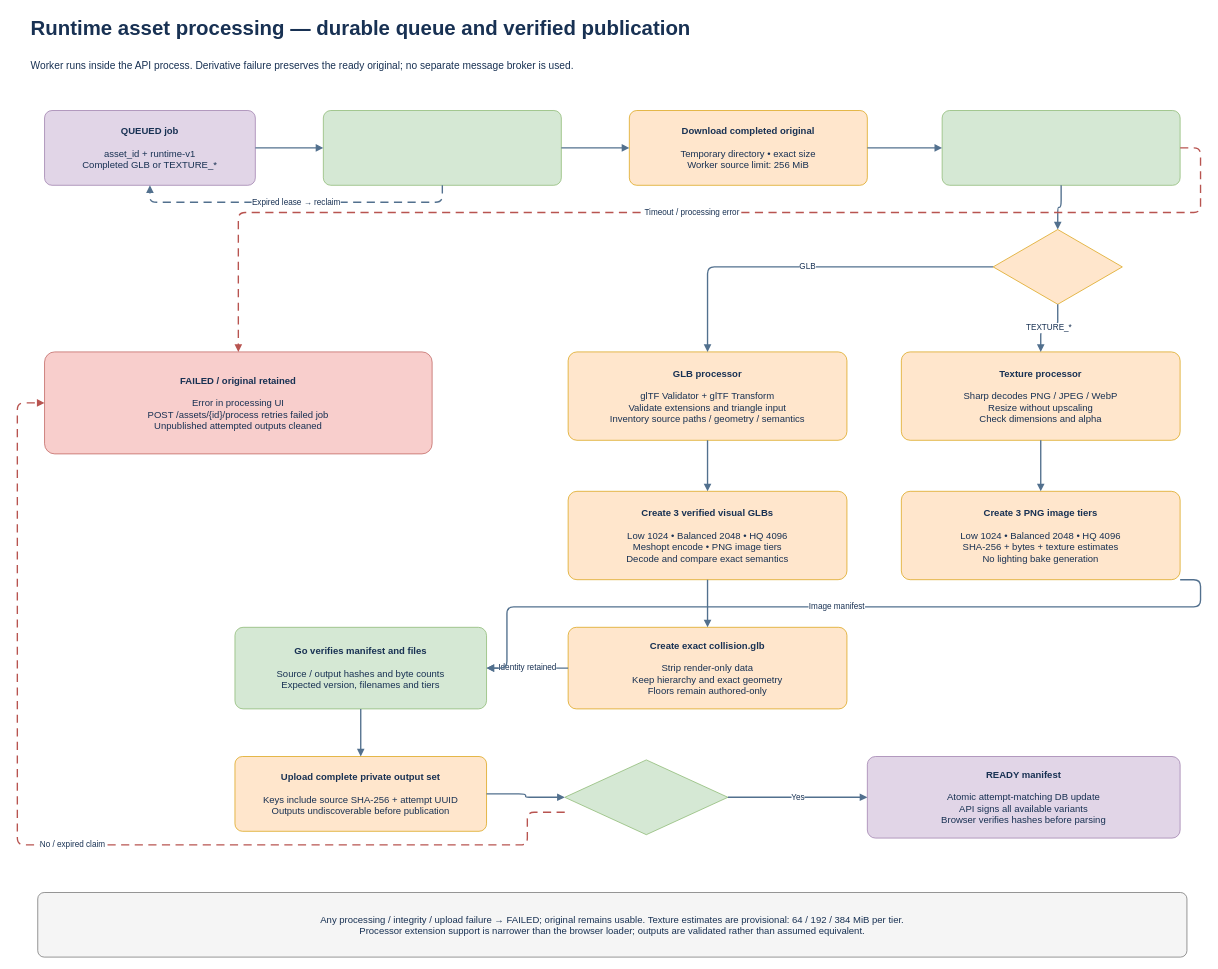
The diagram is 1218 pixels wide and 969 high, and some of its shapes have lost their labels. Each missing label, with the centre of its shape:
"Asset type?" goes at point 1057,266.
"Atomic claim → PROCESSING FOR UPDATE SKIP LOCKED Attempt UUID • lease: 15 min" goes at point 442,147.
"Finish current attempt?" goes at point 646,797.
"Run Node subprocess 10 min task timeout 1 GiB Node heap setting Bounded logs" goes at point 1060,147.
